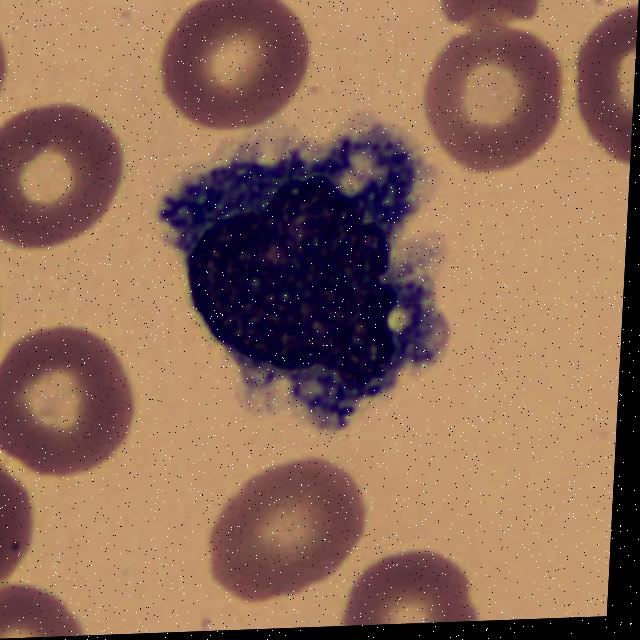monocyte: (161, 124, 451, 441)
rbc: (197, 457, 370, 608), (419, 22, 568, 178), (153, 0, 314, 134), (0, 326, 136, 479), (0, 105, 124, 250), (339, 547, 487, 626), (570, 9, 638, 176), (0, 453, 39, 606), (0, 580, 91, 640), (418, 0, 560, 35)
